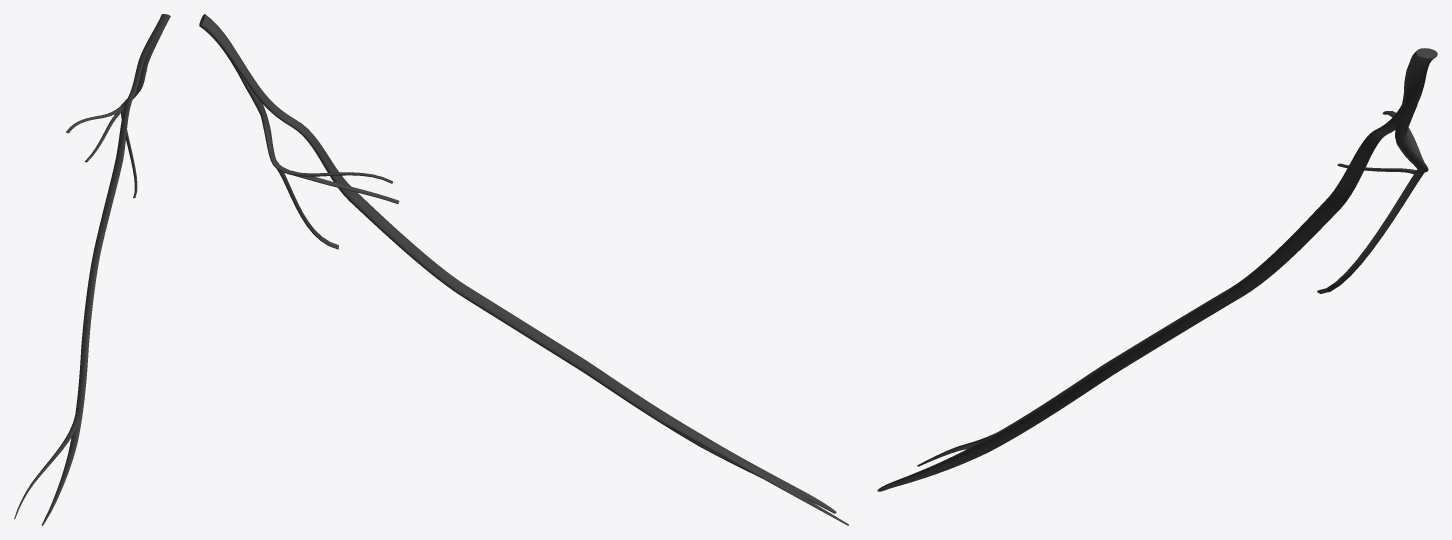
Rendered from N_5_trigeminus_maxillary_pterygopalatine_majorpalatine.glb.
3 renders of one model, left to right at view 1: azimuth 30°, elevation 25°; view 2: azimuth 150°, elevation 25°; view 3: azimuth 270°, elevation 25°, orthographic. The views are drawn at different scales.
Visible parts, largest first — view 1: N_5_trigeminus_maxillary_pterygopalatine_majorpalatine; view 2: N_5_trigeminus_maxillary_pterygopalatine_majorpalatine; view 3: N_5_trigeminus_maxillary_pterygopalatine_majorpalatine.
Boxes of the visible parts, x1,y1,x2,y2 form: N_5_trigeminus_maxillary_pterygopalatine_majorpalatine: [14, 14, 170, 525]; N_5_trigeminus_maxillary_pterygopalatine_majorpalatine: [199, 14, 848, 525]; N_5_trigeminus_maxillary_pterygopalatine_majorpalatine: [877, 48, 1437, 491].
Size of the model in its own units: 0.0238 by 0.0282 by 0.0205.
1 material, 1 textured.
